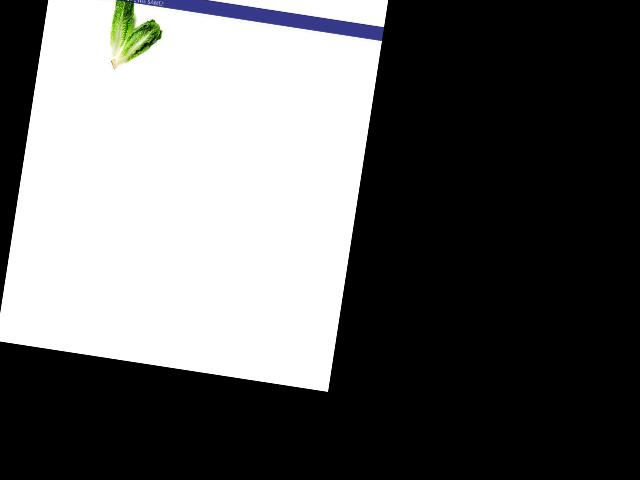lettuce: (107, 9, 163, 74)
